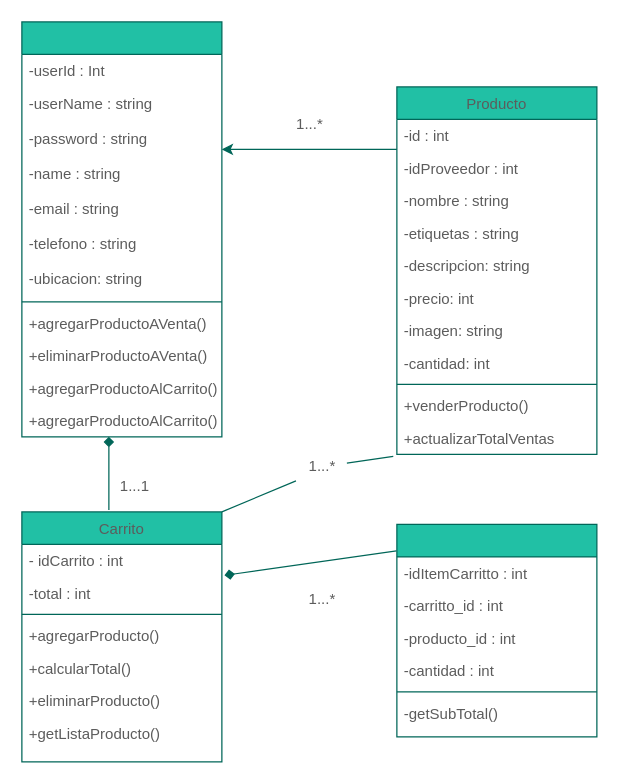
Some shapes in this 619 by 784 pixel diagram are drawn without their labels. The box of each missing label's shape, as (x1, y1, x2, y2) in pixels:
ItemCarrito: (396, 523, 597, 737)
Usuario: (21, 21, 222, 437)
